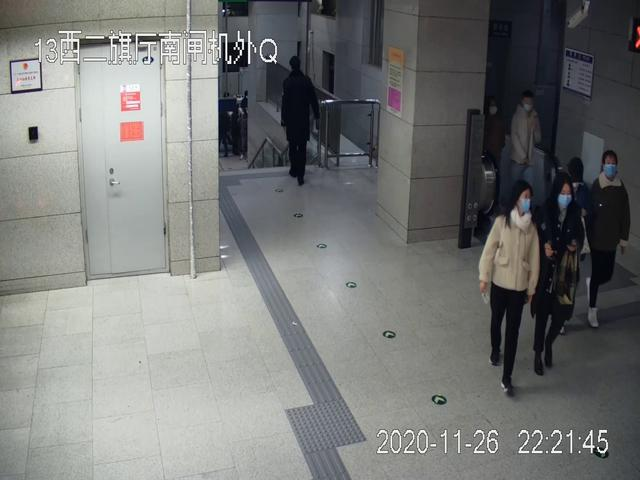person: (478, 182, 540, 397), (530, 179, 585, 374), (587, 150, 630, 330), (281, 54, 322, 185), (508, 90, 542, 219)
